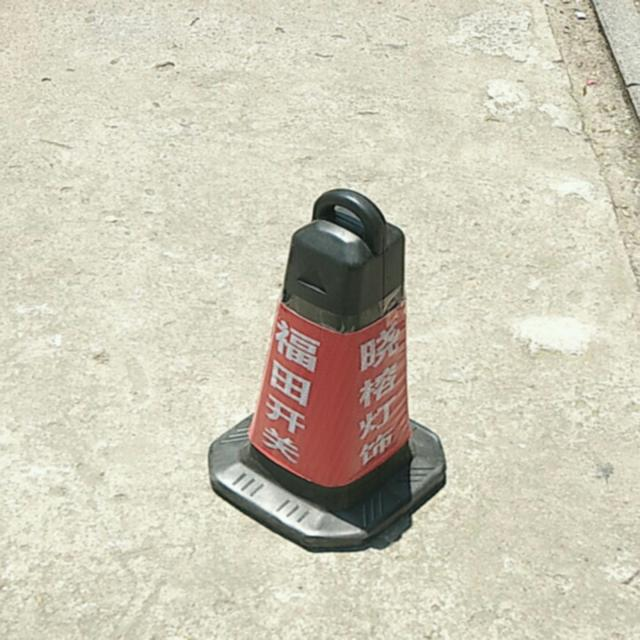reflective_cone: (206, 190, 447, 550)
